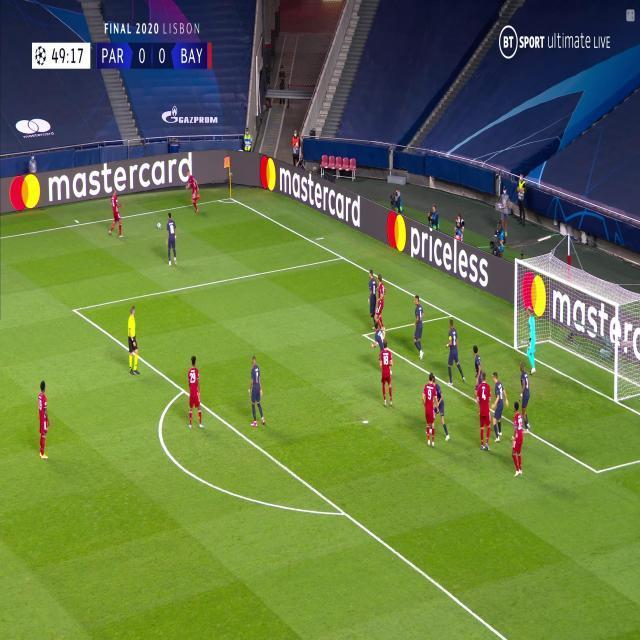ball: (157, 220, 162, 229)
goalkeeper: (527, 303, 537, 373)
player: (443, 317, 465, 387), (246, 353, 266, 429), (186, 356, 205, 432), (475, 371, 493, 451), (36, 379, 52, 462), (422, 372, 439, 449), (510, 401, 526, 481), (432, 374, 450, 442), (491, 371, 508, 443), (377, 339, 394, 409), (519, 362, 533, 430), (411, 293, 425, 359), (163, 211, 178, 268), (366, 267, 379, 331), (109, 189, 125, 239), (373, 272, 387, 326), (186, 171, 201, 214), (472, 345, 485, 382), (371, 322, 384, 354)
referee: (125, 303, 141, 378)
